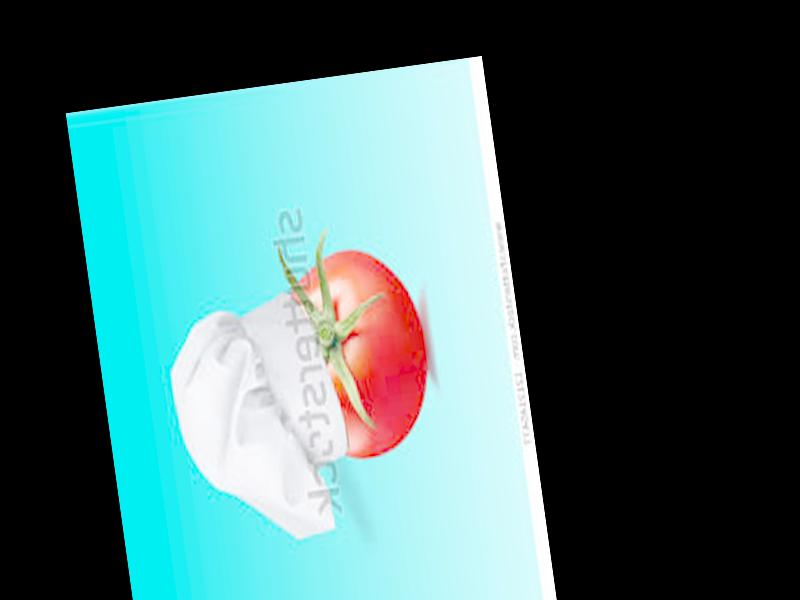Tomato: (285, 245, 437, 465)
